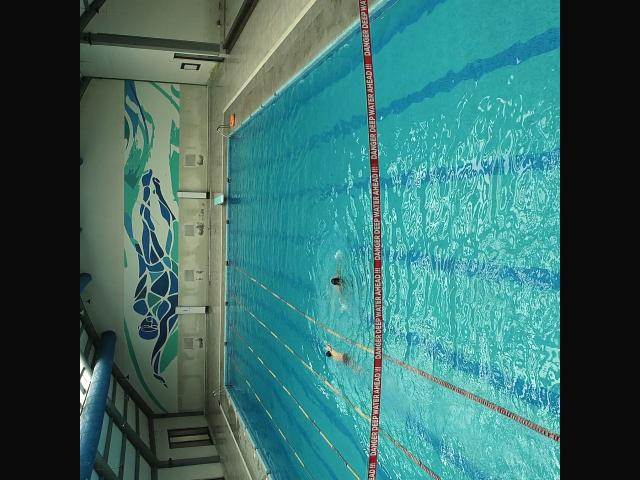drowning: (328, 260, 354, 298)
swimming: (319, 342, 369, 376)
